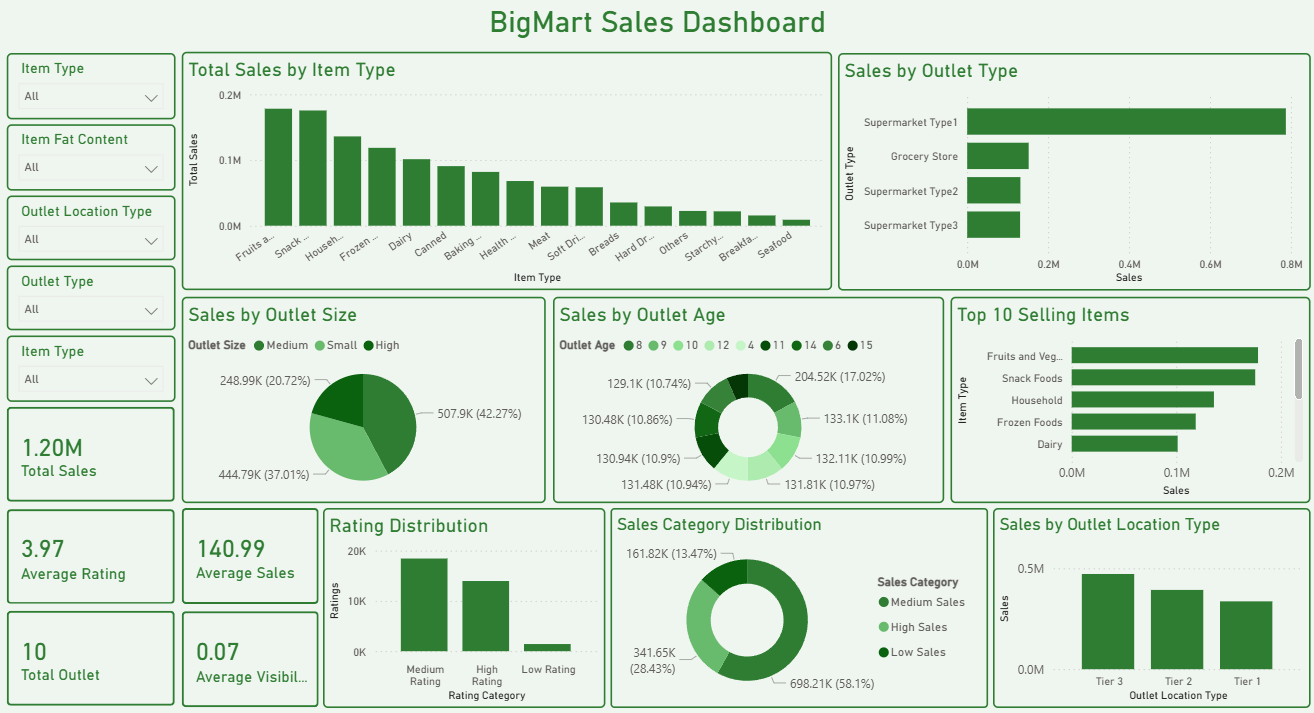

This screenshot's page, from the dashboard's own definition file:
{"tool":"powerbi","page":{"name":"Page 1","canvas":[1320,740],"ordinal":0},"visuals":[{"type":"textbox","title":"BigMart Sales Performance Dashboard","box":[396.2,7.5,527.5,38.8],"z":0},{"type":"cardVisual","fields":{"Data":["bigmart.Total Sales","bigmart.Average Rating","bigmart.Total Outlet"]},"box":[8.6,431.4,168.6,301.4],"z":1000},{"type":"clusteredBarChart","title":"Sales by Item Type","fields":{"Category":["bigmart.item_type"],"Y":["Sum(bigmart.sales)"]},"box":[183.8,53.8,650,238.8],"z":2000},{"type":"clusteredColumnChart","title":"Sales by Outlet Type","fields":{"Category":["bigmart.outlet_type"],"Y":["Sum(bigmart.sales)"]},"box":[840,55,472.5,237.5],"z":3000},{"type":"clusteredColumnChart","title":"Sales by Outlet Location Type","fields":{"Y":["Sum(bigmart.sales)"],"Category":["bigmart.outlet_location_type"]},"box":[1038.6,532.9,274.3,200],"z":4000},{"type":"pieChart","title":"Sales by Outlet Size","fields":{"Y":["Sum(bigmart.sales)"],"Category":["bigmart.outlet_size"]},"box":[183.5,299.1,330.5,228.7],"z":5000},{"type":"lineChart","title":"Sales by Outlet Age","fields":{"Y":["Sum(bigmart.sales)"],"Category":["bigmart.outlet_age"]},"box":[519.1,299.1,373.3,228.7],"z":6000},{"type":"clusteredColumnChart","title":"Products by Rating Category","fields":{"Category":["bigmart.rating_category"],"Y":["CountNonNull(bigmart.item_identifier)"]},"box":[358.6,532.9,282.9,200],"z":7000},{"type":"donutChart","title":"Sales Category Distribution","fields":{"Y":["Sum(bigmart.sales)"],"Category":["bigmart.sales_category"]},"box":[648.6,532.9,382.9,200],"z":8000},{"type":"clusteredBarChart","title":"Top 10 Selling Items","fields":{"Y":["Sum(bigmart.sales)"],"Category":["bigmart.item_identifier"]},"box":[897.4,299.1,414.7,228.7],"z":9000},{"type":"slicer","fields":{"Values":["bigmart.item_type"]},"box":[8.1,286.2,170,65.6],"z":10000},{"type":"slicer","fields":{"Values":["bigmart.item_fat_content"]},"box":[7.5,55.8,170,94.2],"z":11000},{"type":"slicer","fields":{"Values":["bigmart.outlet_type"]},"box":[8.1,359.4,168.8,65.6],"z":12000},{"type":"slicer","fields":{"Values":["bigmart.outlet_location_type"]},"box":[8.6,155.7,170,124.3],"z":14000},{"type":"cardVisual","fields":{"Data":["bigmart.Average Sales","bigmart.Average Visibility"]},"box":[184.3,532.9,168.6,200],"z":15000}]}

Visuals, with their boxes in screenshot pixels (x1, y1, x2, y2):
"BigMart Sales Performance Dashboard" textbox: (379,11,880,47)
cardVisual - bigmart.Total Sales x bigmart.Average Rating: (12,413,171,699)
"Sales by Item Type" clusteredBarChart: (178,54,794,281)
"Sales by Outlet Type" clusteredColumnChart: (800,56,1248,281)
"Sales by Outlet Location Type" clusteredColumnChart: (989,509,1249,699)
"Sales by Outlet Size" pieChart: (177,287,491,504)
"Sales by Outlet Age" lineChart: (496,287,850,504)
"Products by Rating Category" clusteredColumnChart: (344,509,612,699)
"Sales Category Distribution" donutChart: (619,509,982,699)
"Top 10 Selling Items" clusteredBarChart: (855,287,1248,504)
slicer - bigmart.item_type: (11,275,172,337)
slicer - bigmart.item_fat_content: (11,56,172,146)
slicer - bigmart.outlet_type: (11,344,171,407)
slicer - bigmart.outlet_location_type: (12,151,173,269)
cardVisual - bigmart.Average Sales x bigmart.Average Visibility: (178,509,338,699)
